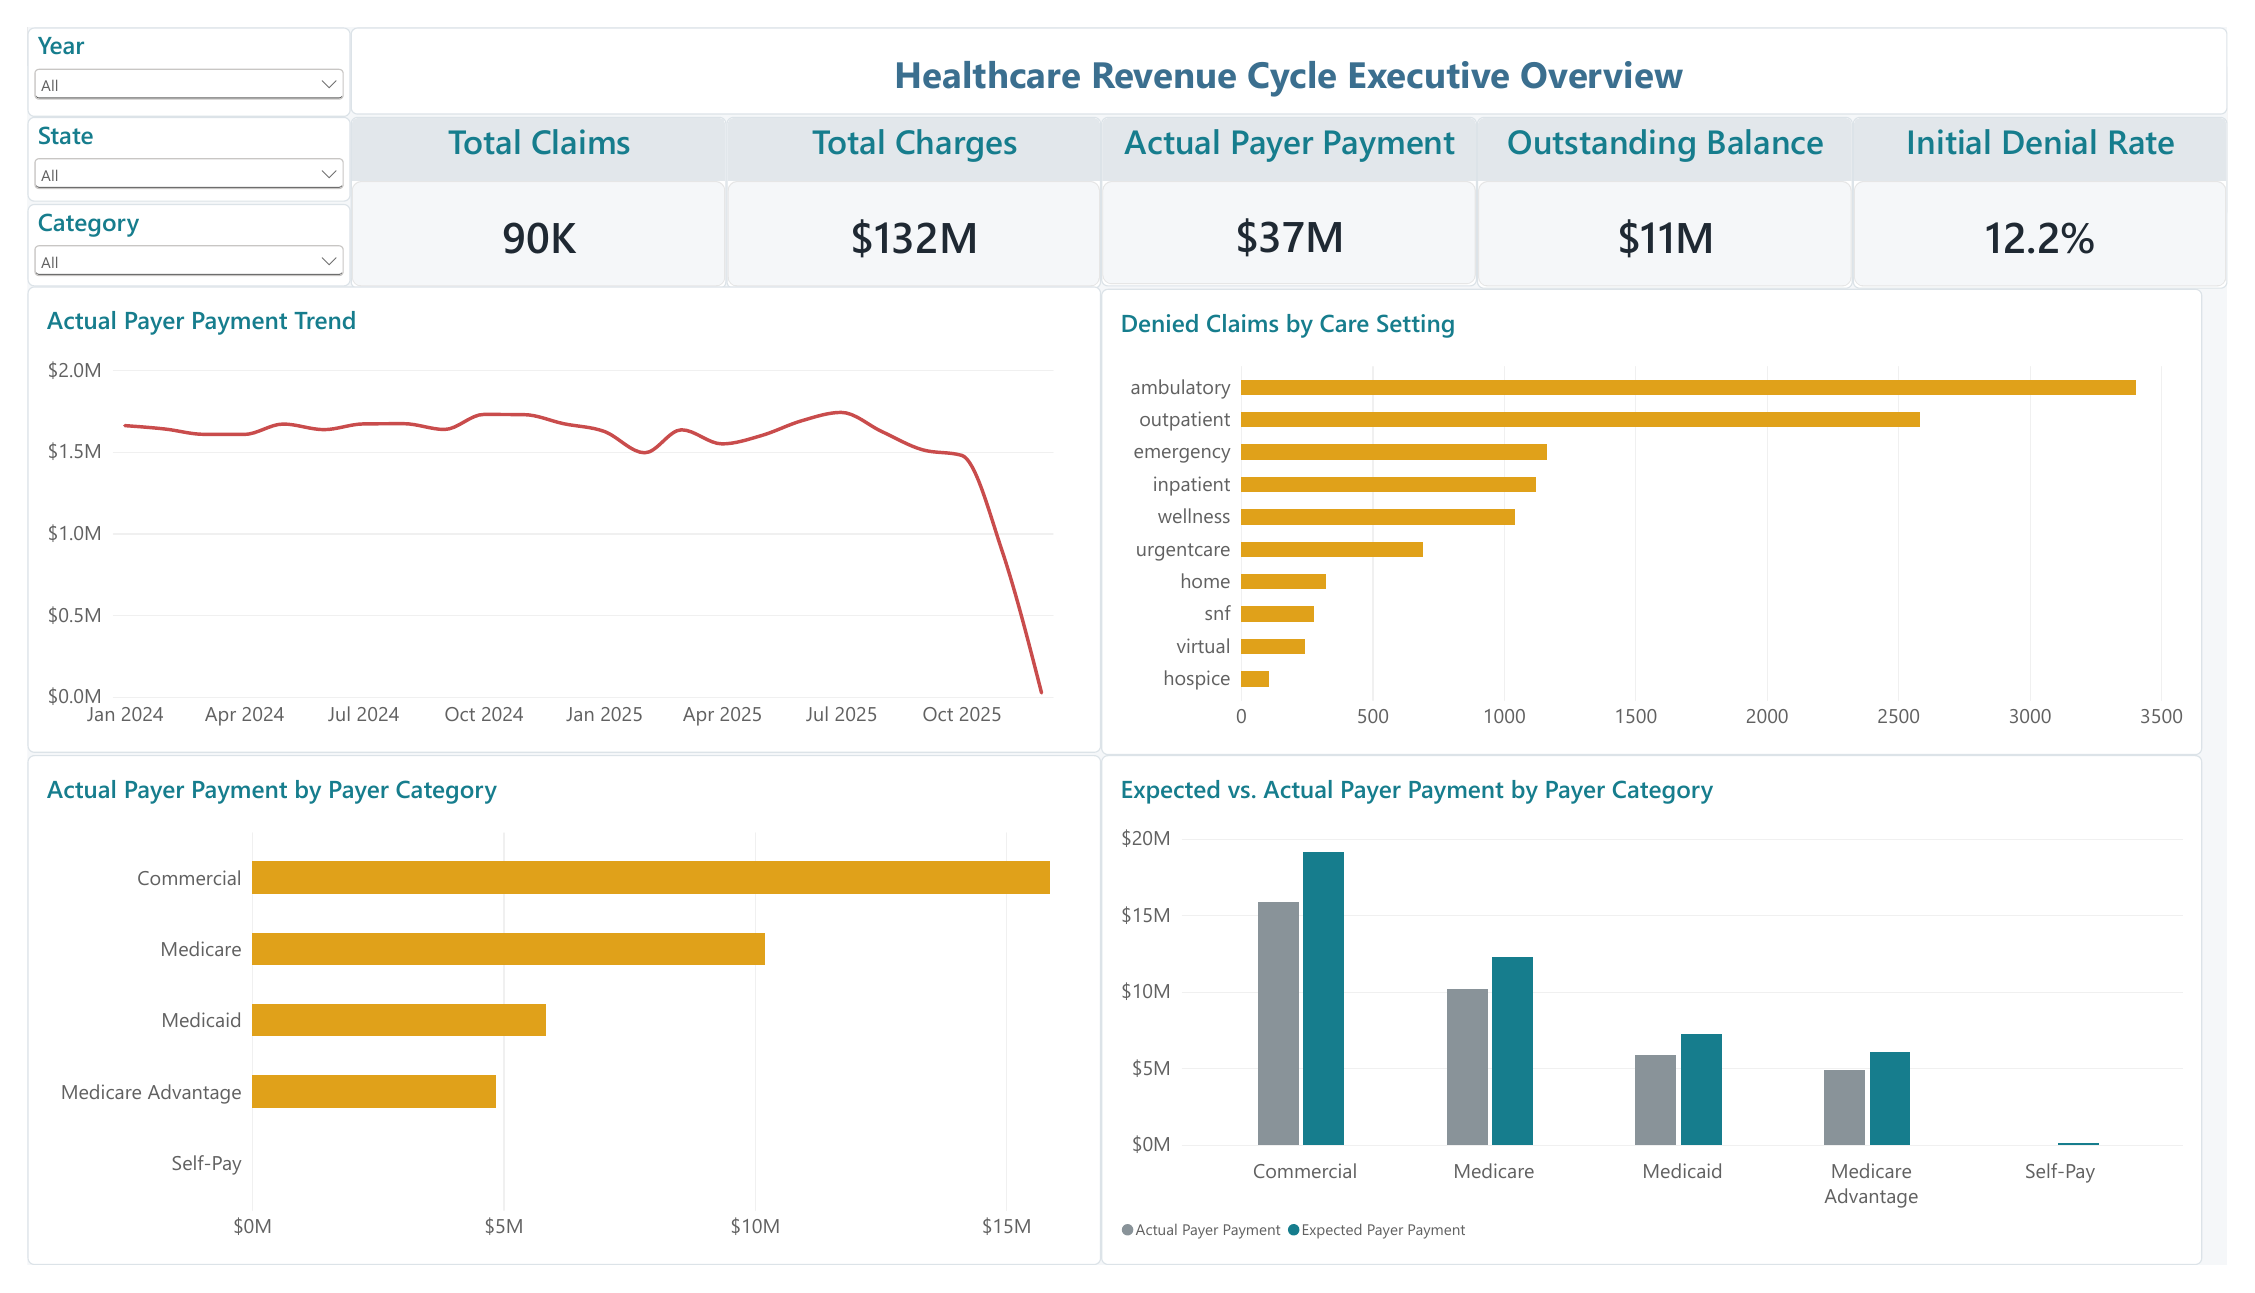

What the dashboard file says about the page in this screenshot:
{"tool":"powerbi","page":{"name":"Executive Overview","canvas":[1920,1080],"ordinal":0},"visuals":[{"type":"textbox","box":[282.3,0,1637.7,76],"z":0},{"type":"cardVisual","title":"Total Claims","fields":{"Data":["FactClaims.Total Claims"]},"box":[282.3,77.8,327.5,150.2],"z":1},{"type":"cardVisual","title":"Total Charges","fields":{"Data":["FactClaims.Total Charges"]},"box":[609.9,77.8,327.5,150.2],"z":2},{"type":"cardVisual","title":"Actual Payer Payment","fields":{"Data":["FactClaims.Actual Payer Payment"]},"box":[937.4,77.8,327.5,148.4],"z":3},{"type":"cardVisual","title":"Outstanding Balance","fields":{"Data":["FactClaims.Outstanding Balance"]},"box":[1265,77.8,327.5,150.2],"z":4},{"type":"cardVisual","title":"Initial Denial Rate","fields":{"Data":["FactClaims.Initial Denial Rate"]},"box":[1592.5,77.8,327.5,150.2],"z":5},{"type":"slicer","fields":{"Values":["DimDate.year"]},"box":[0,0,282.3,77.8],"z":6},{"type":"slicer","fields":{"Values":["DimFacility.state"]},"box":[0,77.8,282.3,74.2],"z":7},{"type":"slicer","fields":{"Values":["DimPayer.payer_category"]},"box":[0,153.8,282.3,72.4],"z":8},{"type":"lineChart","title":"Actual Payer Payment Trend","fields":{"Category":["DimDate.year_month.Variation.Date Hierarchy.Year","DimDate.year_month.Variation.Date Hierarchy.Quarter","DimDate.year_month.Variation.Date Hierarchy.Month","DimDate.year_month.Variation.Date Hierarchy.Day"],"Y":["FactClaims.Actual Payer Payment"]},"box":[0,226.2,937.4,407.2],"z":9},{"type":"clusteredBarChart","title":"Actual Payer Payment by Payer Category","fields":{"Category":["DimPayer.payer_category"],"Y":["FactClaims.Actual Payer Payment"]},"box":[0,635.2,937.4,445.2],"z":10},{"type":"clusteredBarChart","title":"Denied Claims by Care Setting","fields":{"Category":["FactClaims.care_setting"],"Y":["FactClaims.Denied Claims"]},"box":[937.4,228,960.9,407.2],"z":11},{"type":"clusteredColumnChart","title":"Expected vs. Actual Payer Payment by Payer Category","fields":{"Category":["DimPayer.payer_category"],"Y":["FactClaims.Actual Payer Payment","FactClaims.Expected Payer Payment"]},"box":[937.4,635.2,960.9,445.2],"z":12}]}

Visuals, with their boxes in screenshot pixels (x1, y1, x2, y2), scaled from the page's 1920x1080 canvas onto the 2255x1293 screenshot:
textbox: <region>332, 0, 2254, 91</region>
"Total Claims" cardVisual: <region>332, 93, 716, 273</region>
"Total Charges" cardVisual: <region>716, 93, 1101, 273</region>
"Actual Payer Payment" cardVisual: <region>1101, 93, 1486, 271</region>
"Outstanding Balance" cardVisual: <region>1486, 93, 1870, 273</region>
"Initial Denial Rate" cardVisual: <region>1870, 93, 2254, 273</region>
slicer - DimDate.year: <region>0, 0, 332, 93</region>
slicer - DimFacility.state: <region>0, 93, 332, 182</region>
slicer - DimPayer.payer_category: <region>0, 184, 332, 271</region>
"Actual Payer Payment Trend" lineChart: <region>0, 271, 1101, 758</region>
"Actual Payer Payment by Payer Category" clusteredBarChart: <region>0, 760, 1101, 1292</region>
"Denied Claims by Care Setting" clusteredBarChart: <region>1101, 273, 2230, 760</region>
"Expected vs. Actual Payer Payment by Payer Category" clusteredColumnChart: <region>1101, 760, 2230, 1292</region>
